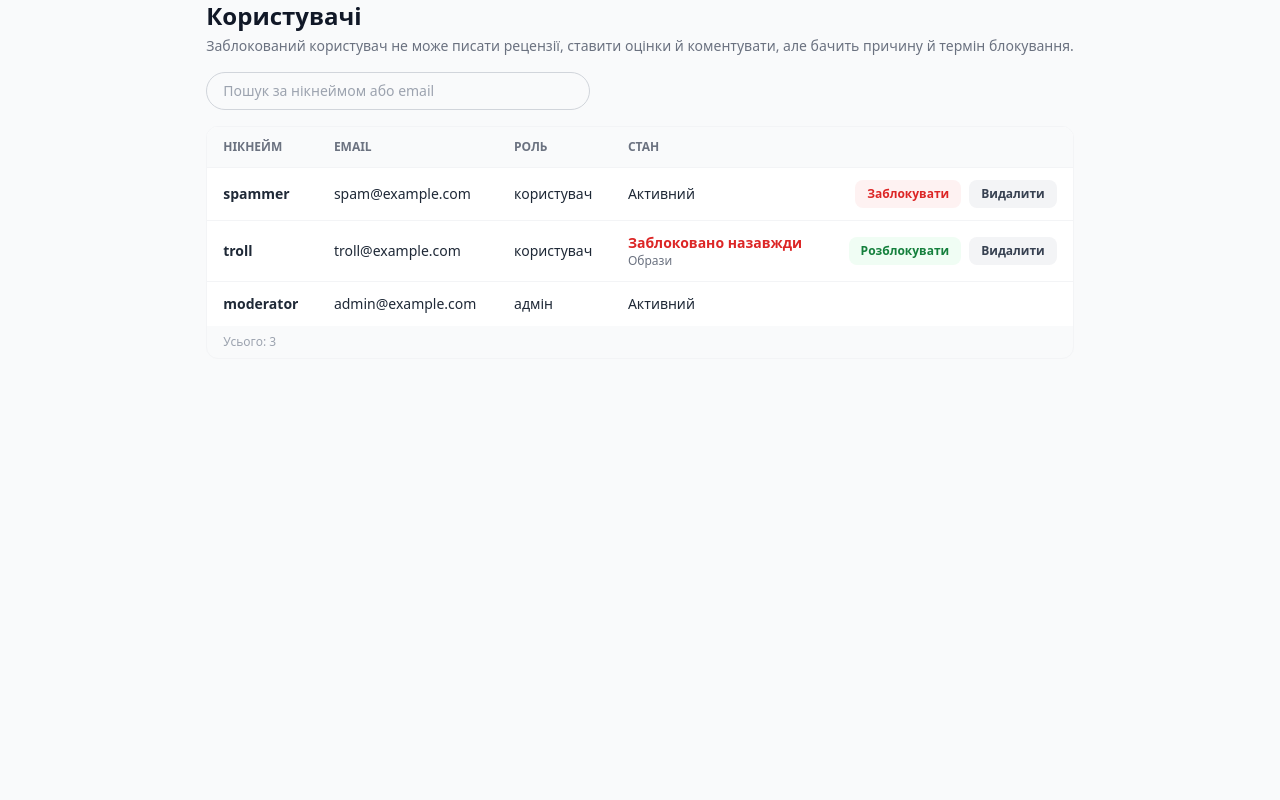
Test: AdminUsers (FR-009, US-006) › shows the server refusal to ban an administrator
Click the button with aria-label "Заблокувати spammer". click: (908, 194)
box: [855,180,961,208]
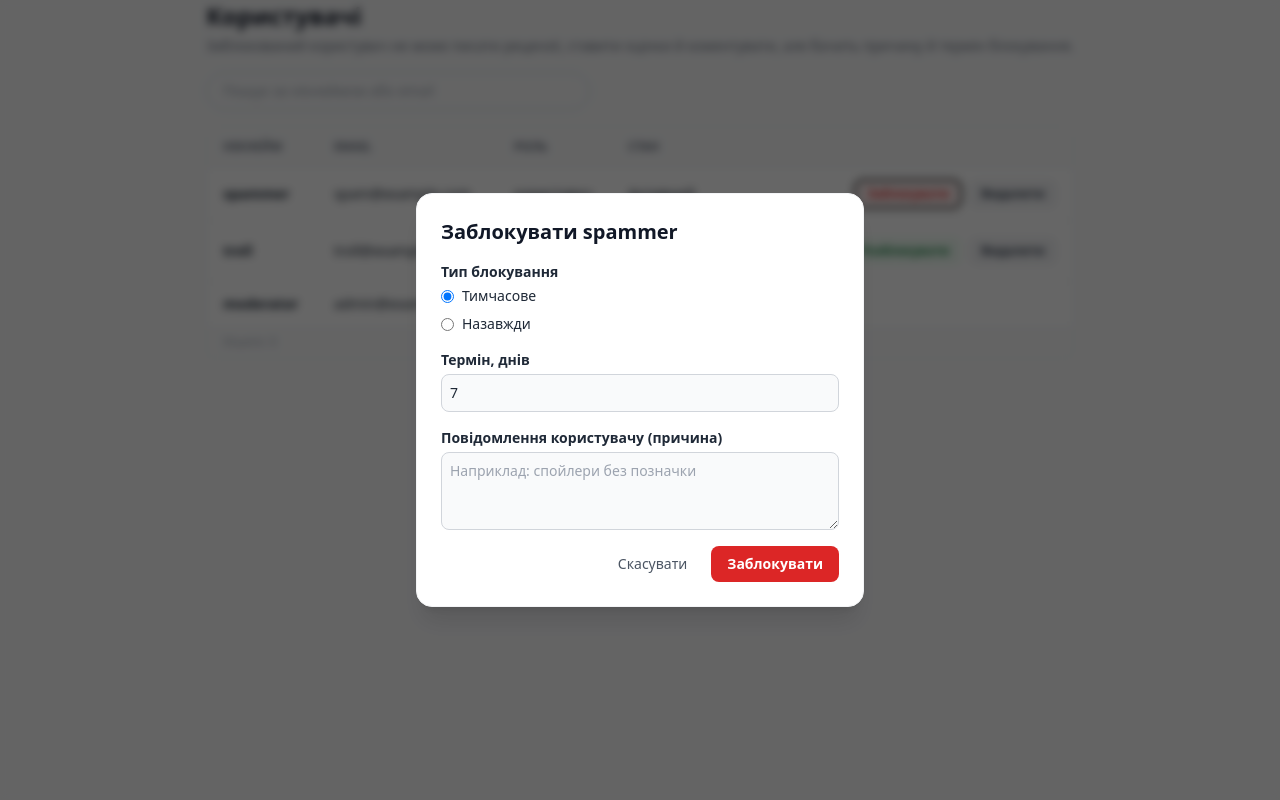
Click the button "Заблокувати". click: (775, 564)
box: [711,546,839,582]
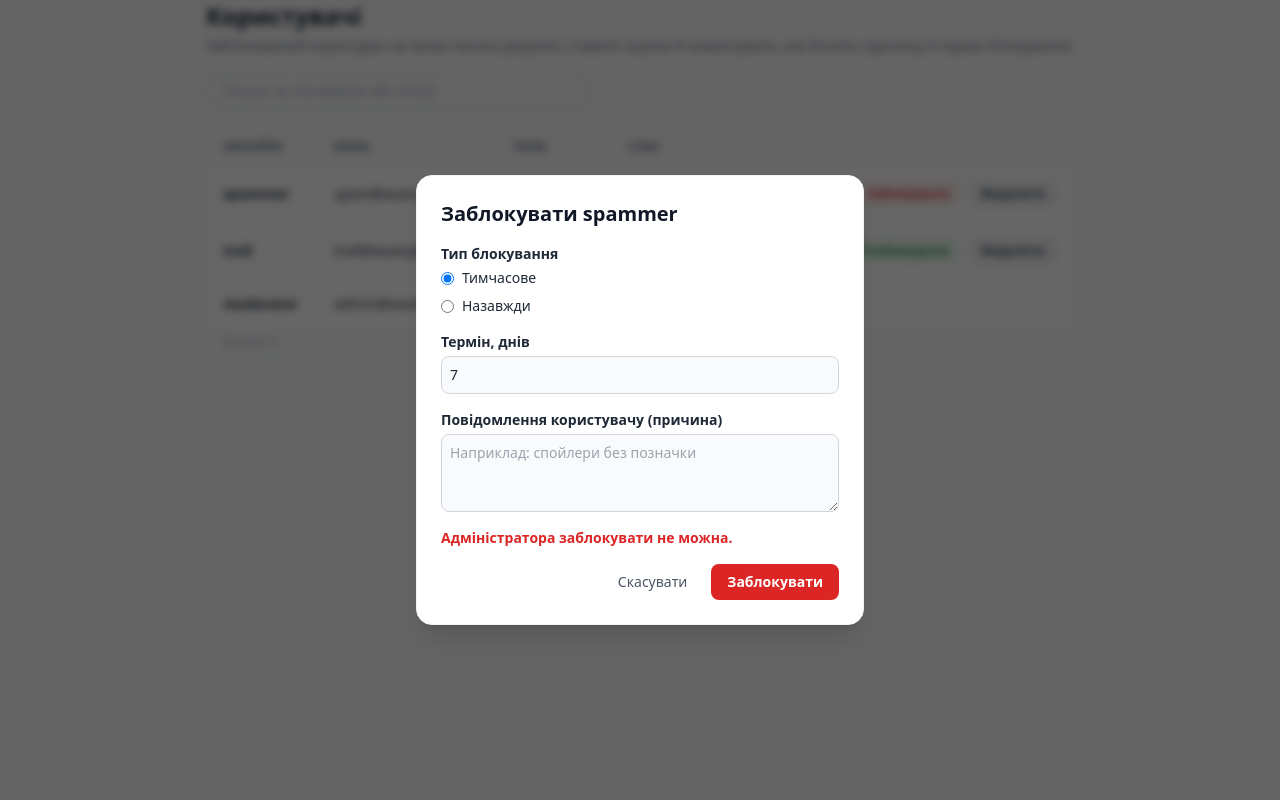
Result: the message reads "Адміністратора заблокувати не можна." at [441,528,732,547]
